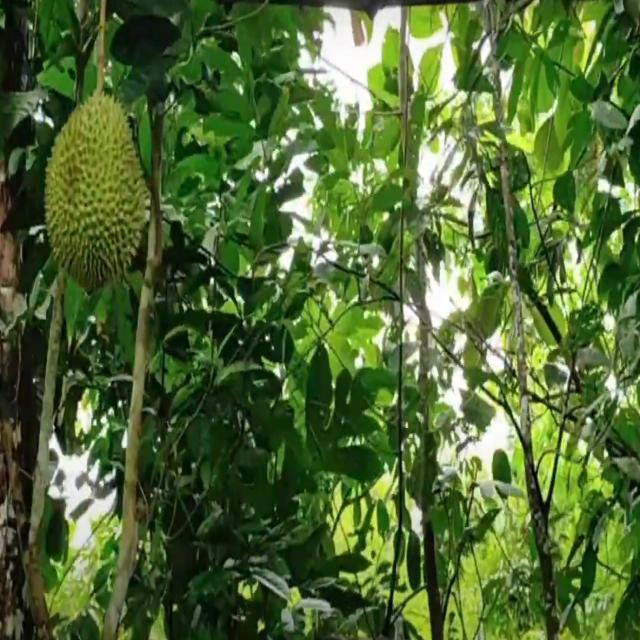immature: (39, 89, 148, 298)
